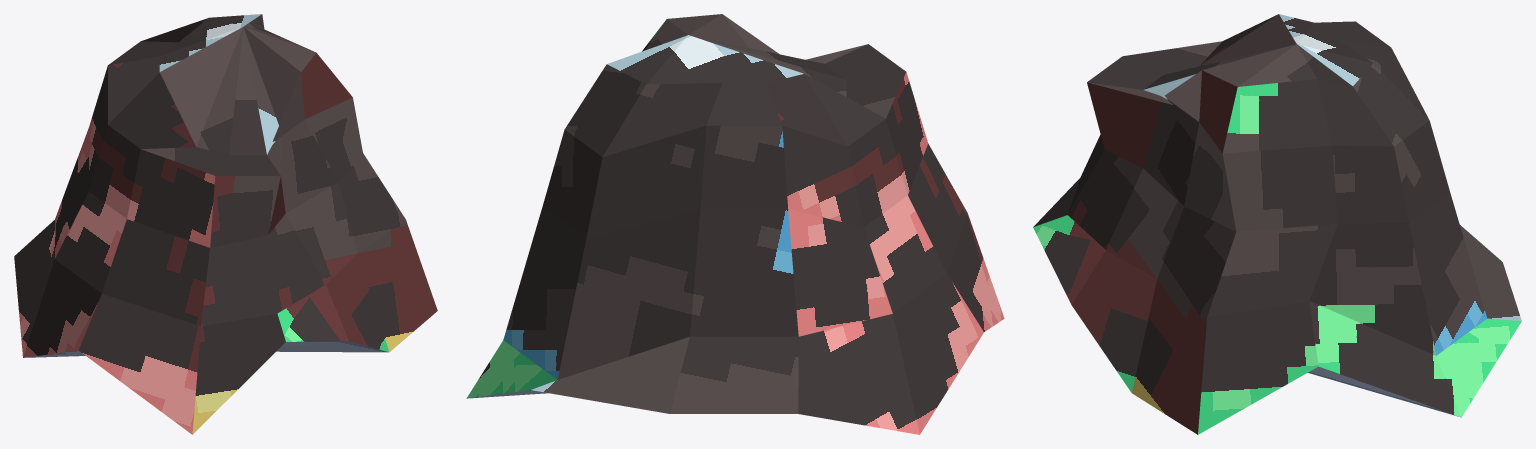
File: rock1.gltf
The picture shows the model from 3 angles, left to right: view 1: azimuth 30°, elevation 25°; view 2: azimuth 150°, elevation 25°; view 3: azimuth 270°, elevation 25°; orthographic projection. The views are drawn at different scales.
Visible parts, largest first — view 1: sphere; view 2: sphere; view 3: sphere.
Boxes of the visible parts, x1,y1,x2,y2 form: sphere: [14, 14, 437, 434]; sphere: [466, 14, 1004, 434]; sphere: [1033, 14, 1521, 434].
Size of the model in its own units: 1.47 by 1.19 by 1.59.
1 material, 1 textured.
